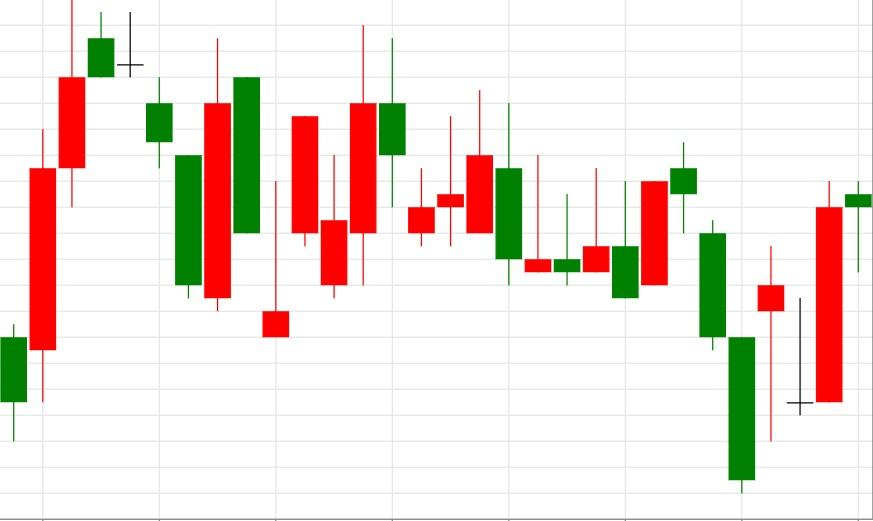bullish_engulfing_rise: (88, 12, 233, 311)
